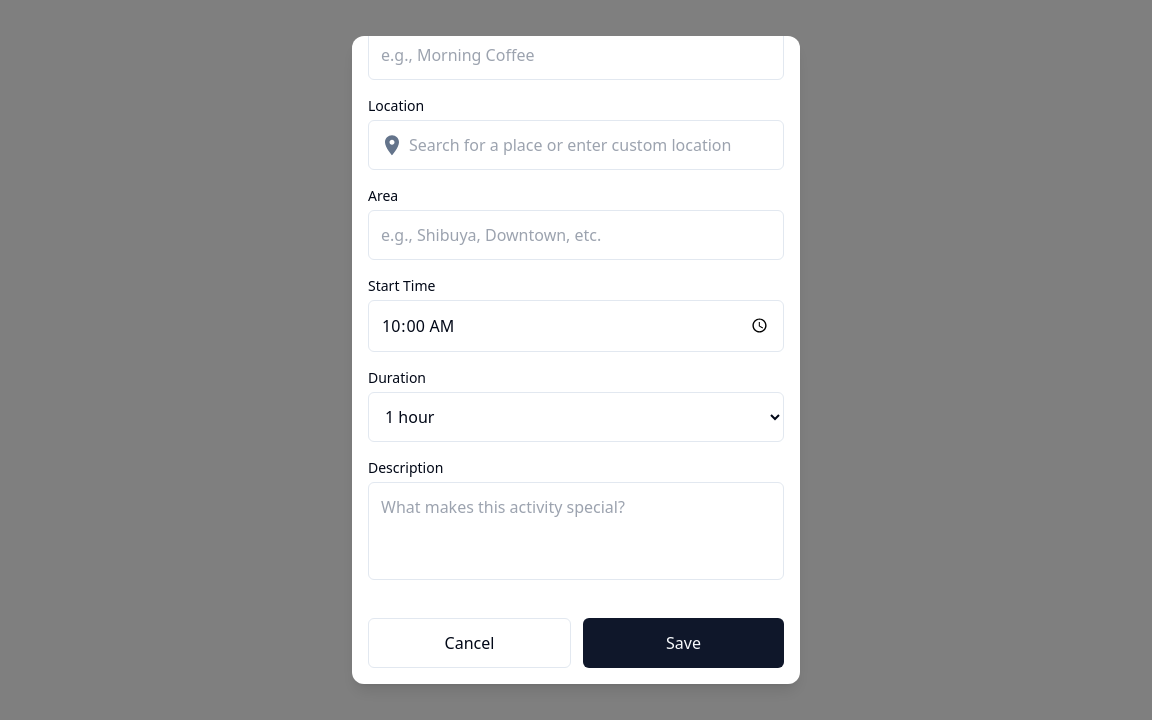
Test case: ActivityModal Component › should validate required fields before saving
(page scrolled)
Click the button "Save": (684, 643) [583, 618, 784, 668]
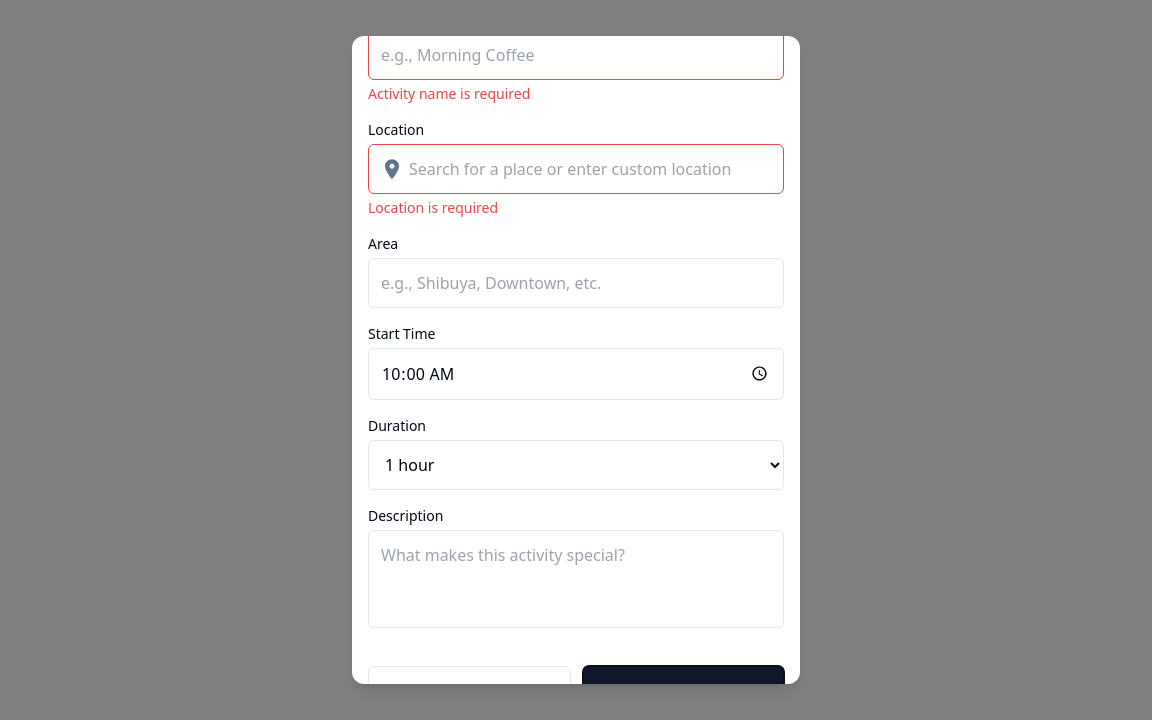
expect the text "Activity name is required" is shown: met, box [368, 84, 530, 103]
